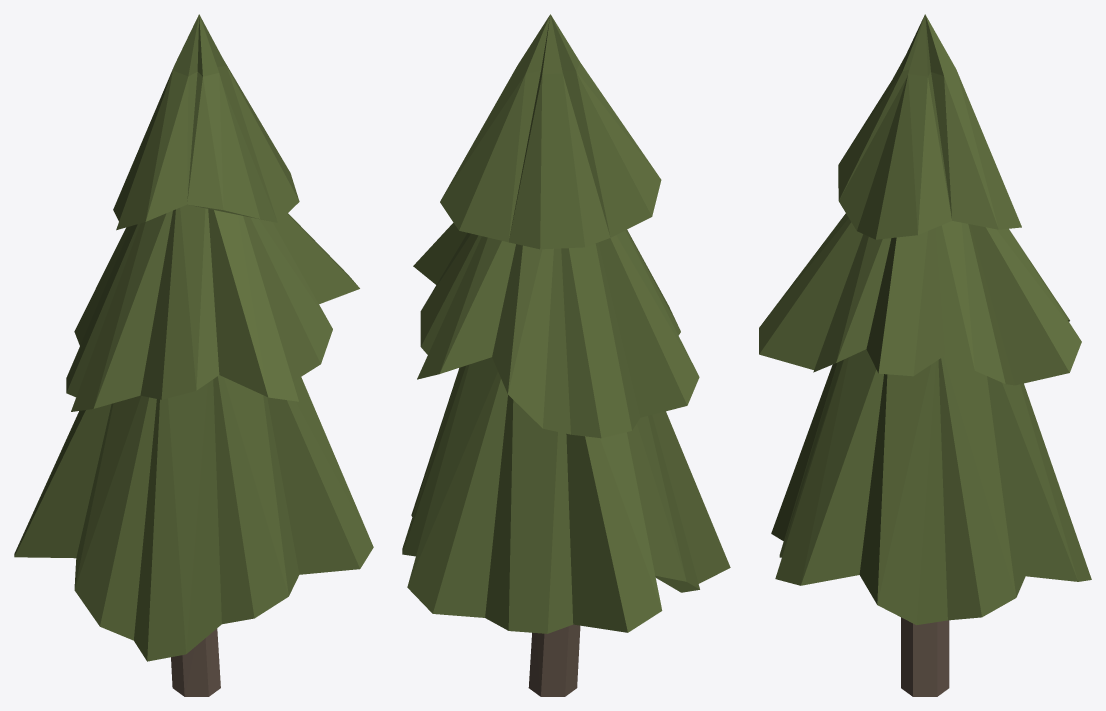
File: tree_0203.dae
3 renders of one model, left to right at view 1: azimuth 30°, elevation 25°; view 2: azimuth 150°, elevation 25°; view 3: azimuth 270°, elevation 25°, orthographic.
Parts seen in each view (by area): view 1: tree_0203; view 2: tree_0203; view 3: tree_0203.
Part boxes in pixels (x1=…): tree_0203: x1=14, y1=14, x2=373, y2=696; tree_0203: x1=402, y1=14, x2=730, y2=696; tree_0203: x1=759, y1=14, x2=1091, y2=696.
Bounding box in the file's own units: 1.88 × 1.86 × 4.15.
